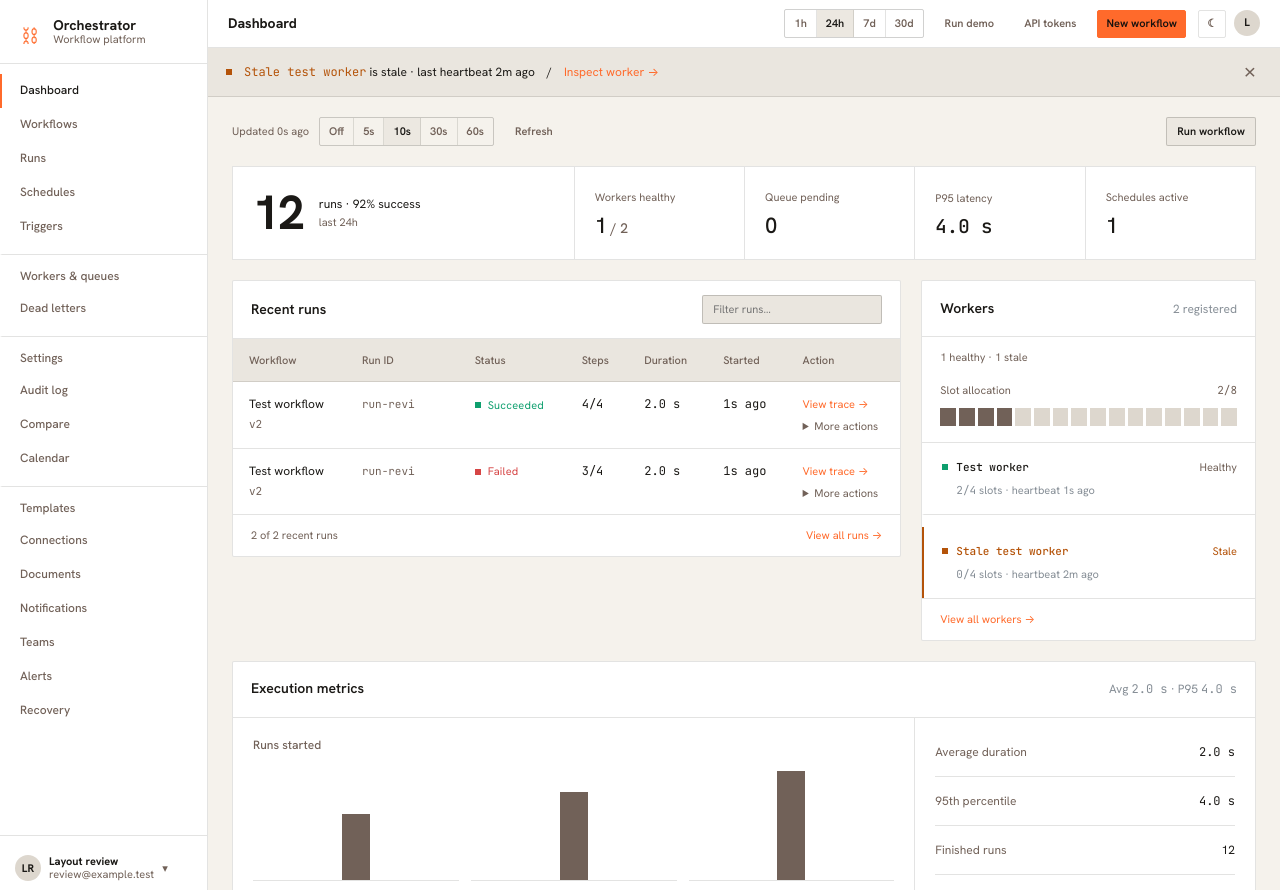
Test: Dashboard presentation › changes the existing query when selecting a time range
The image size is (1280, 890).
Click the button "7d" at (870, 24), box [854,10,886,37]
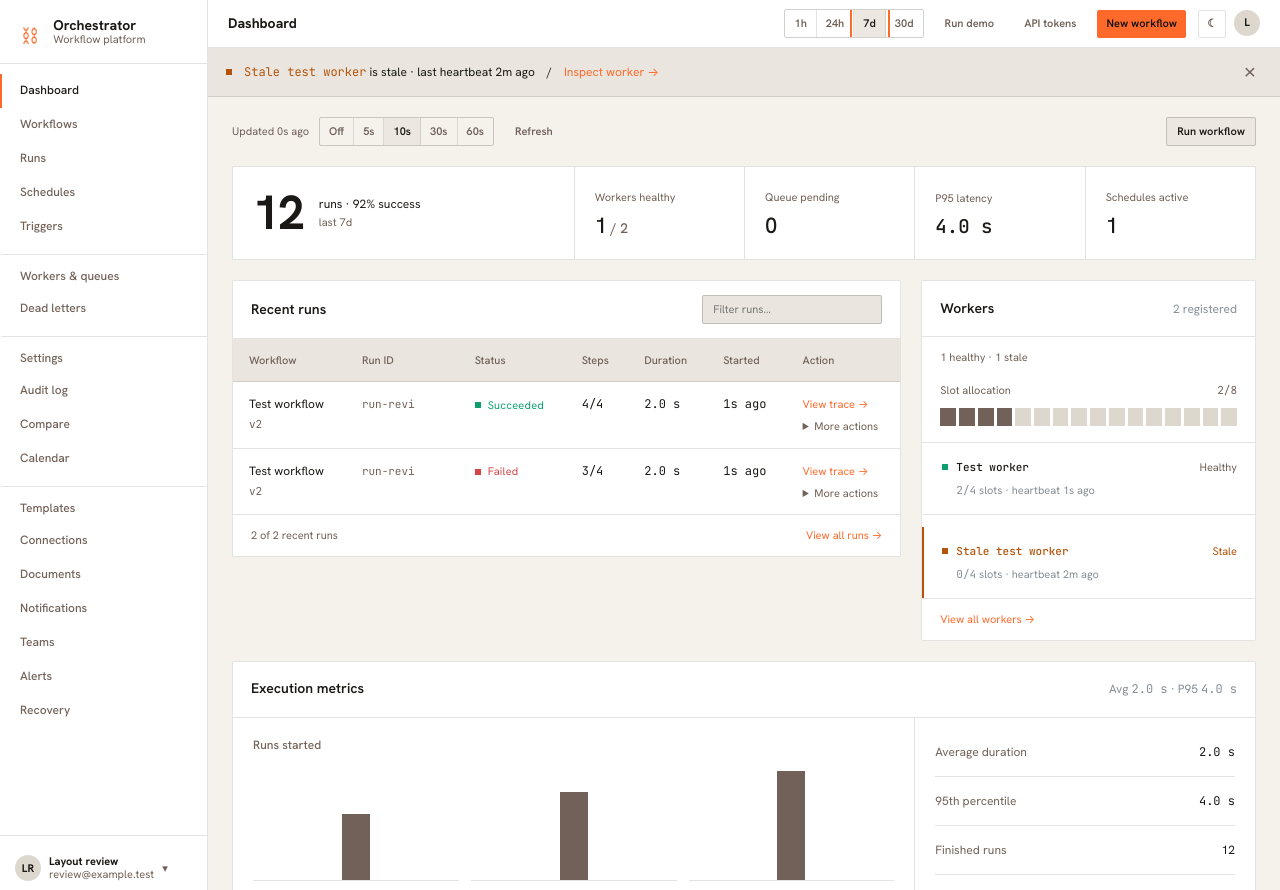
Now the text "last 7d" is shown, box [319,215,352,229]
